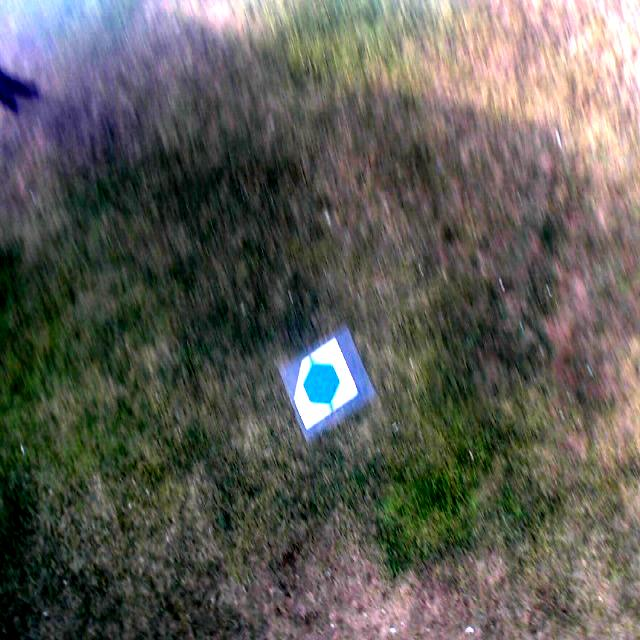blue_hexagon: (304, 363, 339, 406)
